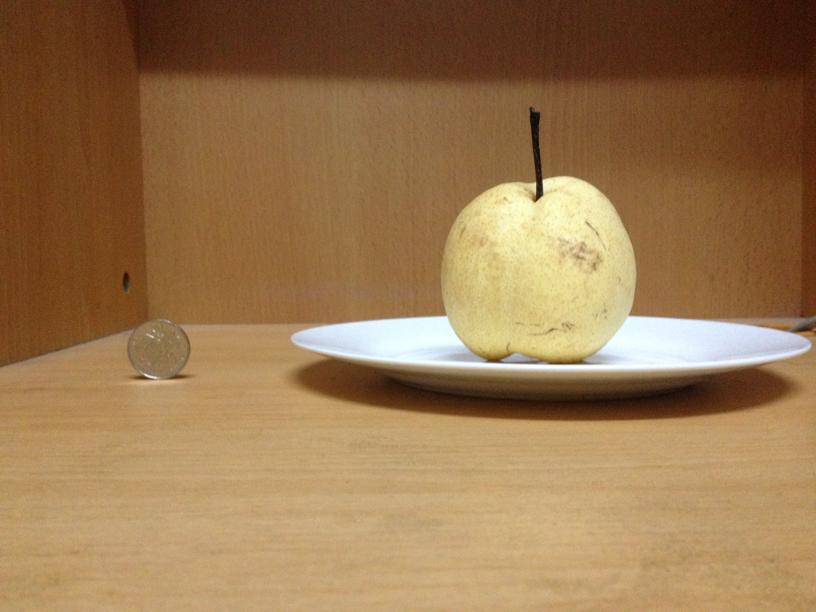coin: (128, 316, 192, 380)
pear: (440, 168, 637, 362)
